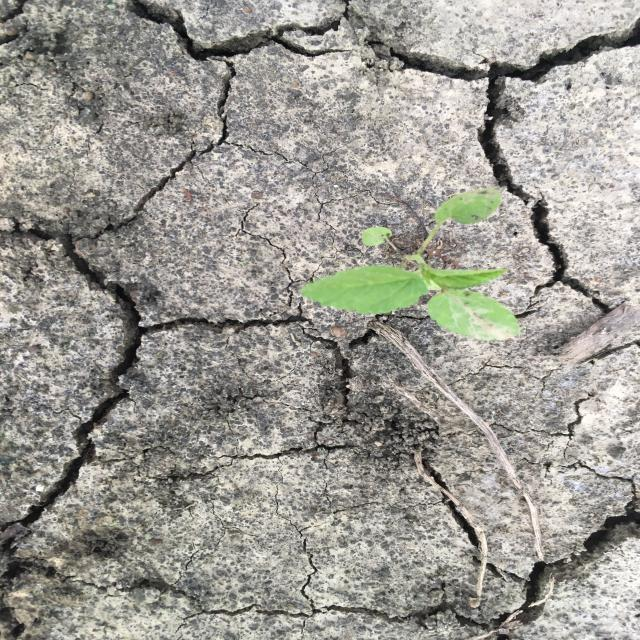PricklySida: (296, 187, 524, 342)
